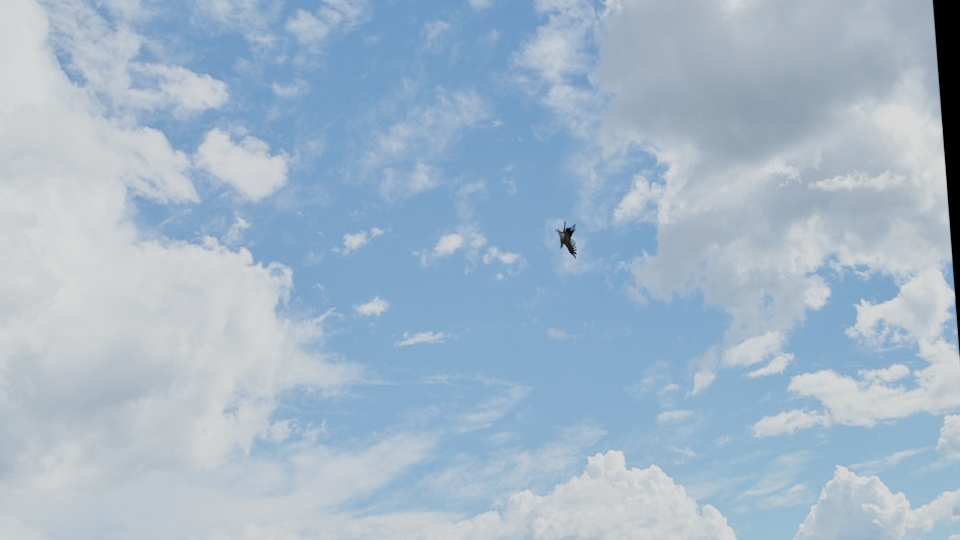bird: (554, 222, 581, 257)
